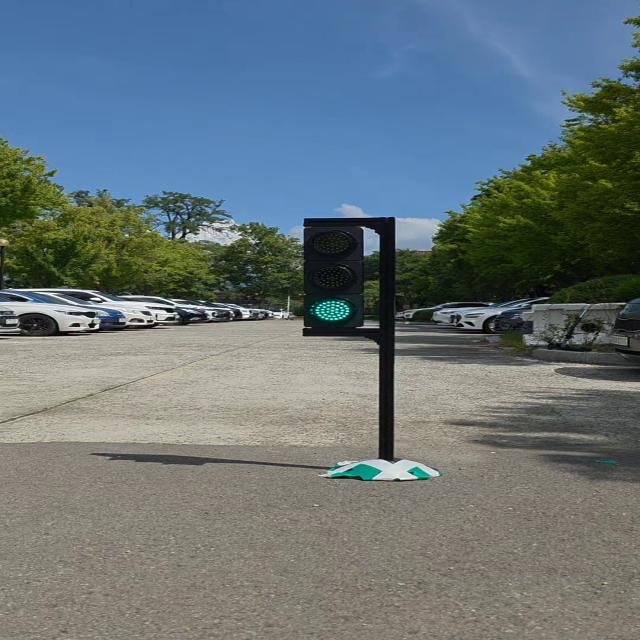green: (304, 219, 366, 333)
